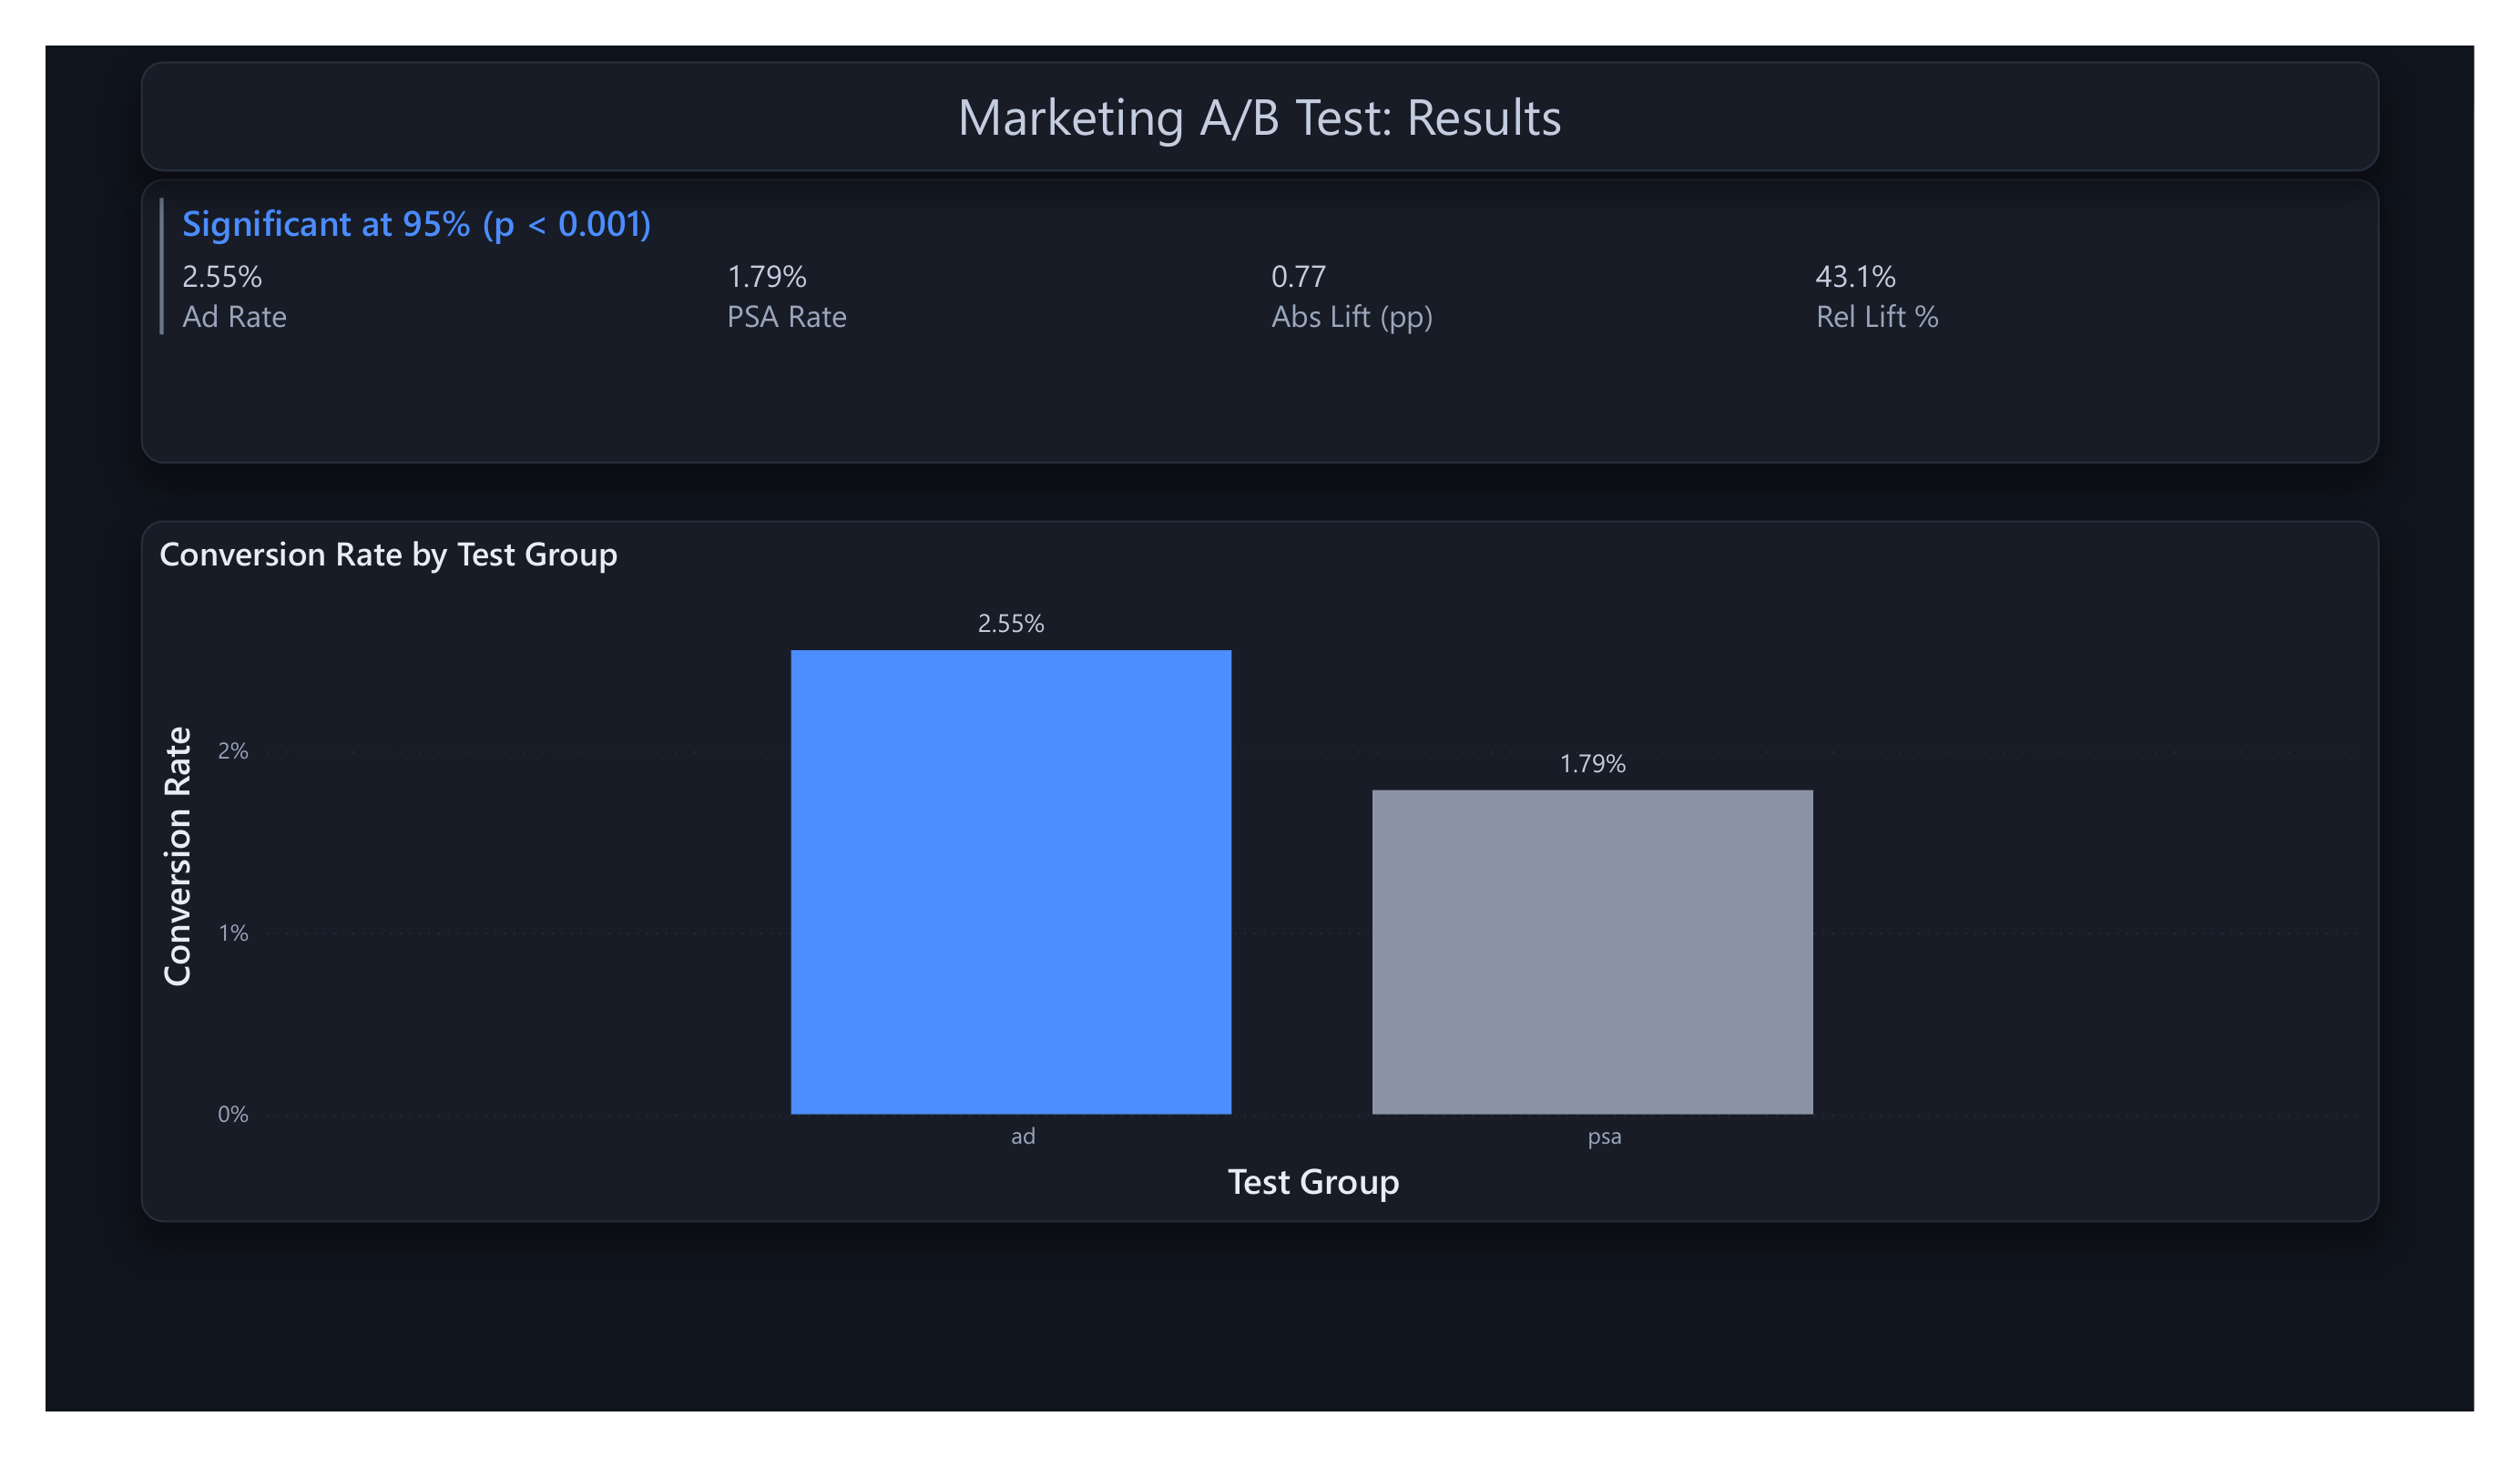

This screenshot's page, from the dashboard's own definition file:
{"tool":"powerbi","page":{"name":"Results","canvas":[1280,720],"ordinal":0},"visuals":[{"type":"clusteredColumnChart","fields":{"Category":["marketing_AB.test_group"],"Y":["marketing_AB.Conversion Rate"]},"box":[50,250,1180,370],"z":0},{"type":"multiRowCard","fields":{"Values":["marketing_AB.Ad Rate","marketing_AB.PSA Rate","marketing_AB.Abs Lift (pp)","marketing_AB.Rel Lift %","marketing_AB.Significance Flag"]},"box":[50,70,1180,150],"z":1000},{"type":"textbox","box":[50,8,1180,58],"z":1001}]}

Visuals, with their boxes on the page's 1280x720 design canvas (x1, y1, x2, y2). These are canvas units, not pixel positions in the 2520x1457 screenshot, which may show the page scaled, cropped or inside an application window:
clusteredColumnChart - marketing_AB.test_group x marketing_AB.Conversion Rate: 50, 250, 1230, 620
multiRowCard - marketing_AB.Ad Rate x marketing_AB.PSA Rate: 50, 70, 1230, 220
textbox: 50, 8, 1230, 66
